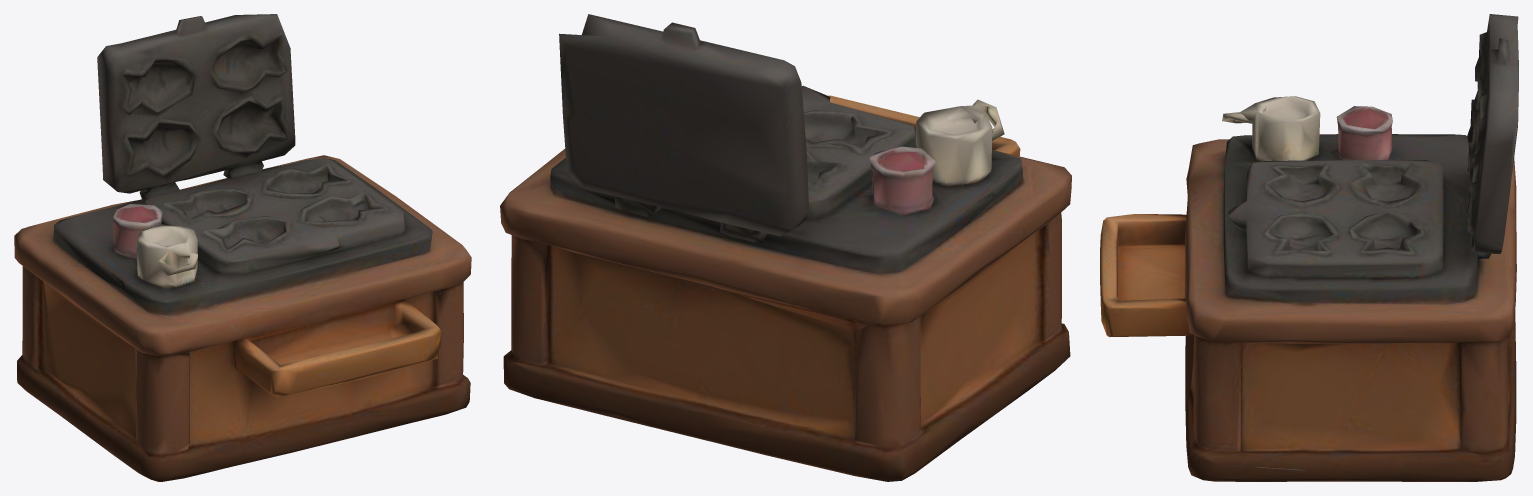
File: KR_사물_s1_dessert_stand_bungeoppang.glb
3 renders of one model, left to right at view 1: azimuth 30°, elevation 25°; view 2: azimuth 150°, elevation 25°; view 3: azimuth 270°, elevation 25°, orthographic. The views are drawn at different scales.
Visible parts, largest first — view 1: tripo_node_ee1c7b28-e853-4a75-b65c-eca9523baf76; view 2: tripo_node_ee1c7b28-e853-4a75-b65c-eca9523baf76; view 3: tripo_node_ee1c7b28-e853-4a75-b65c-eca9523baf76.
Boxes of the visible parts, left/top/right/bottom form: tripo_node_ee1c7b28-e853-4a75-b65c-eca9523baf76: left=14, top=14, right=471, bottom=481; tripo_node_ee1c7b28-e853-4a75-b65c-eca9523baf76: left=500, top=14, right=1071, bottom=481; tripo_node_ee1c7b28-e853-4a75-b65c-eca9523baf76: left=1100, top=14, right=1518, bottom=481.
Bounding box in the file's own units: 1.6 × 1.49 × 1.56.
1 material, 1 textured.
